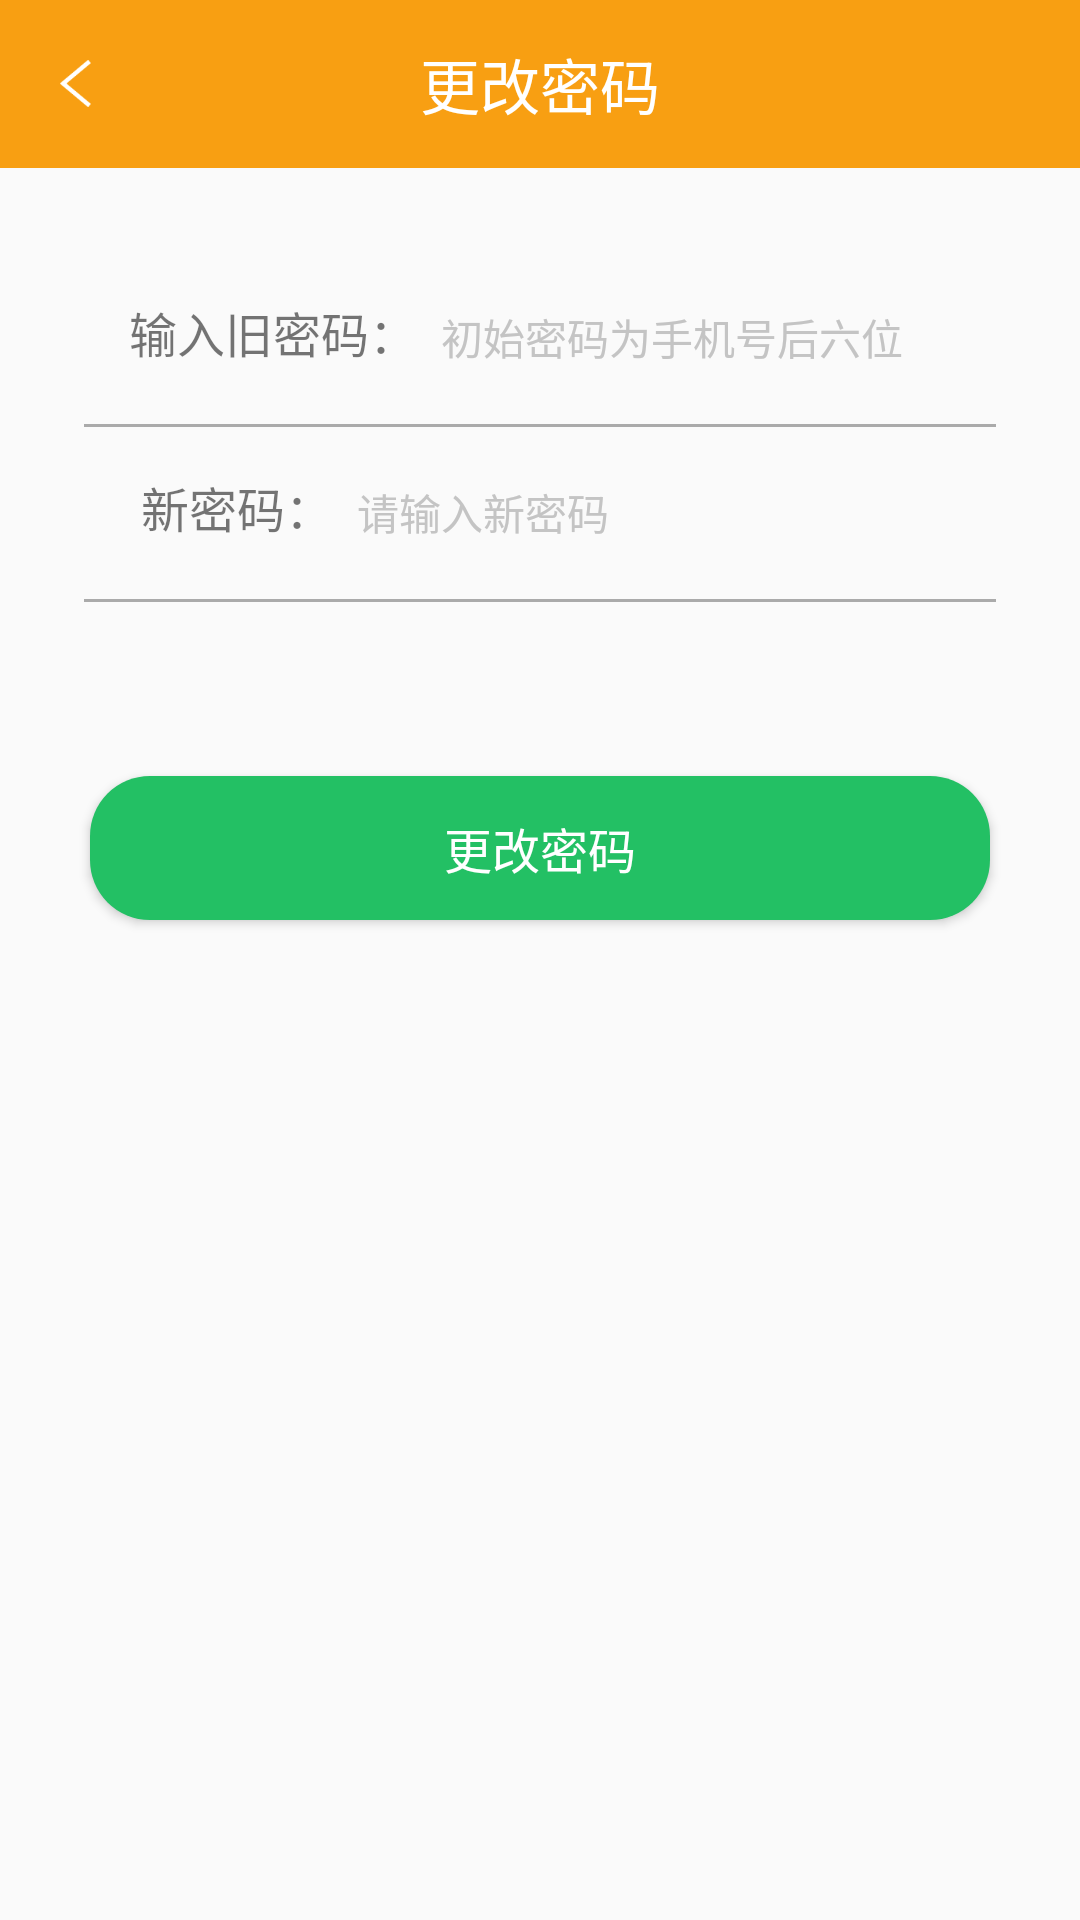

Icons on this 1080px x 1920px Android screen, each with the point to tap as (x=x, y=y):
back: (x=75, y=83)
